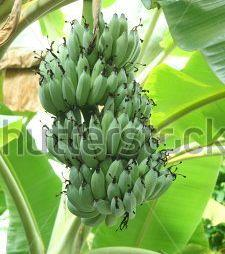Banana Unripe: (33, 10, 171, 234)
